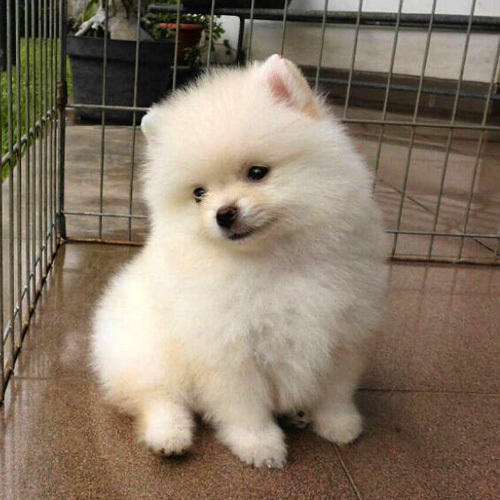pomeranian: (70, 45, 399, 469)
